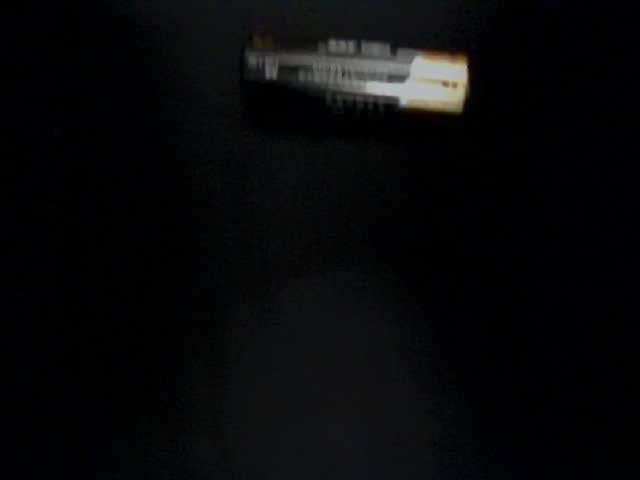YHLJ: (32, 1, 239, 126)
